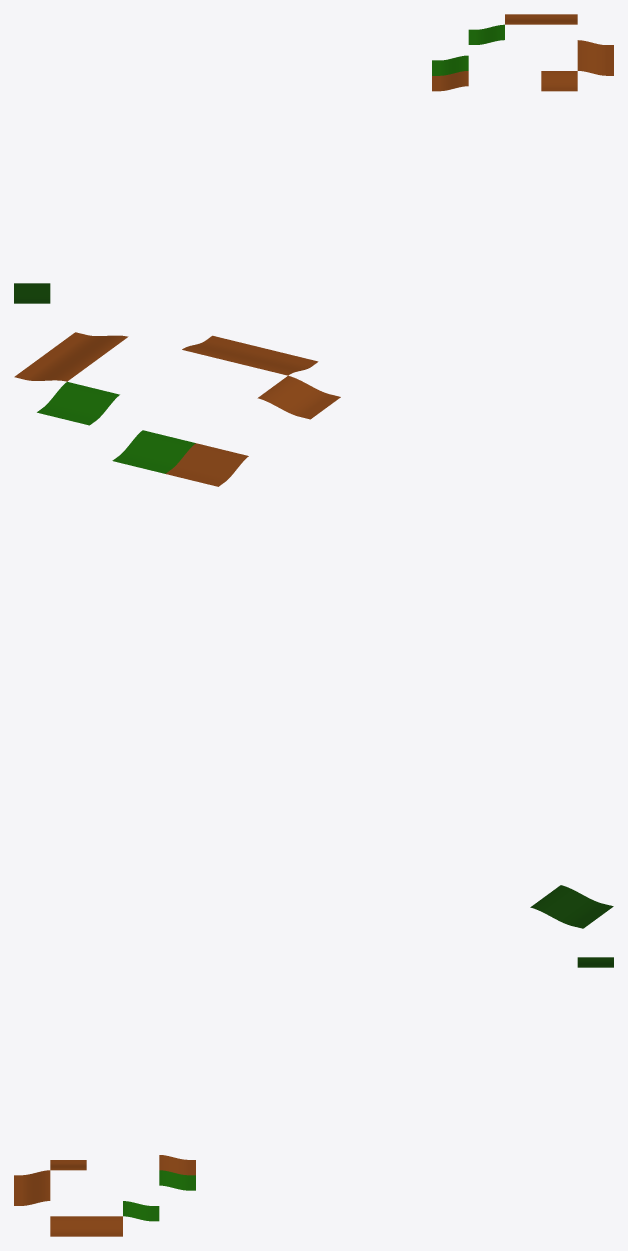
File: Terrain_Part_Ramp_1.glb
The picture shows the model from 3 angles, top to bottom: view 1: azimuth 90°, elevation 25°; view 2: azimuth 150°, elevation 25°; view 3: azimuth 270°, elevation 25°; orthographic projection. The views are drawn at different scales.
Visible parts, largest first — view 1: Terrain_Part_Ramp_1.009; view 2: Terrain_Part_Ramp_1.009; view 3: Terrain_Part_Ramp_1.009.
Boxes of the visible parts, x1,y1,x2,y2 form: Terrain_Part_Ramp_1.009: [14, 14, 613, 303]; Terrain_Part_Ramp_1.009: [14, 332, 613, 928]; Terrain_Part_Ramp_1.009: [14, 957, 613, 1236].
Size of the model in its own units: 370 by 6 by 330.
